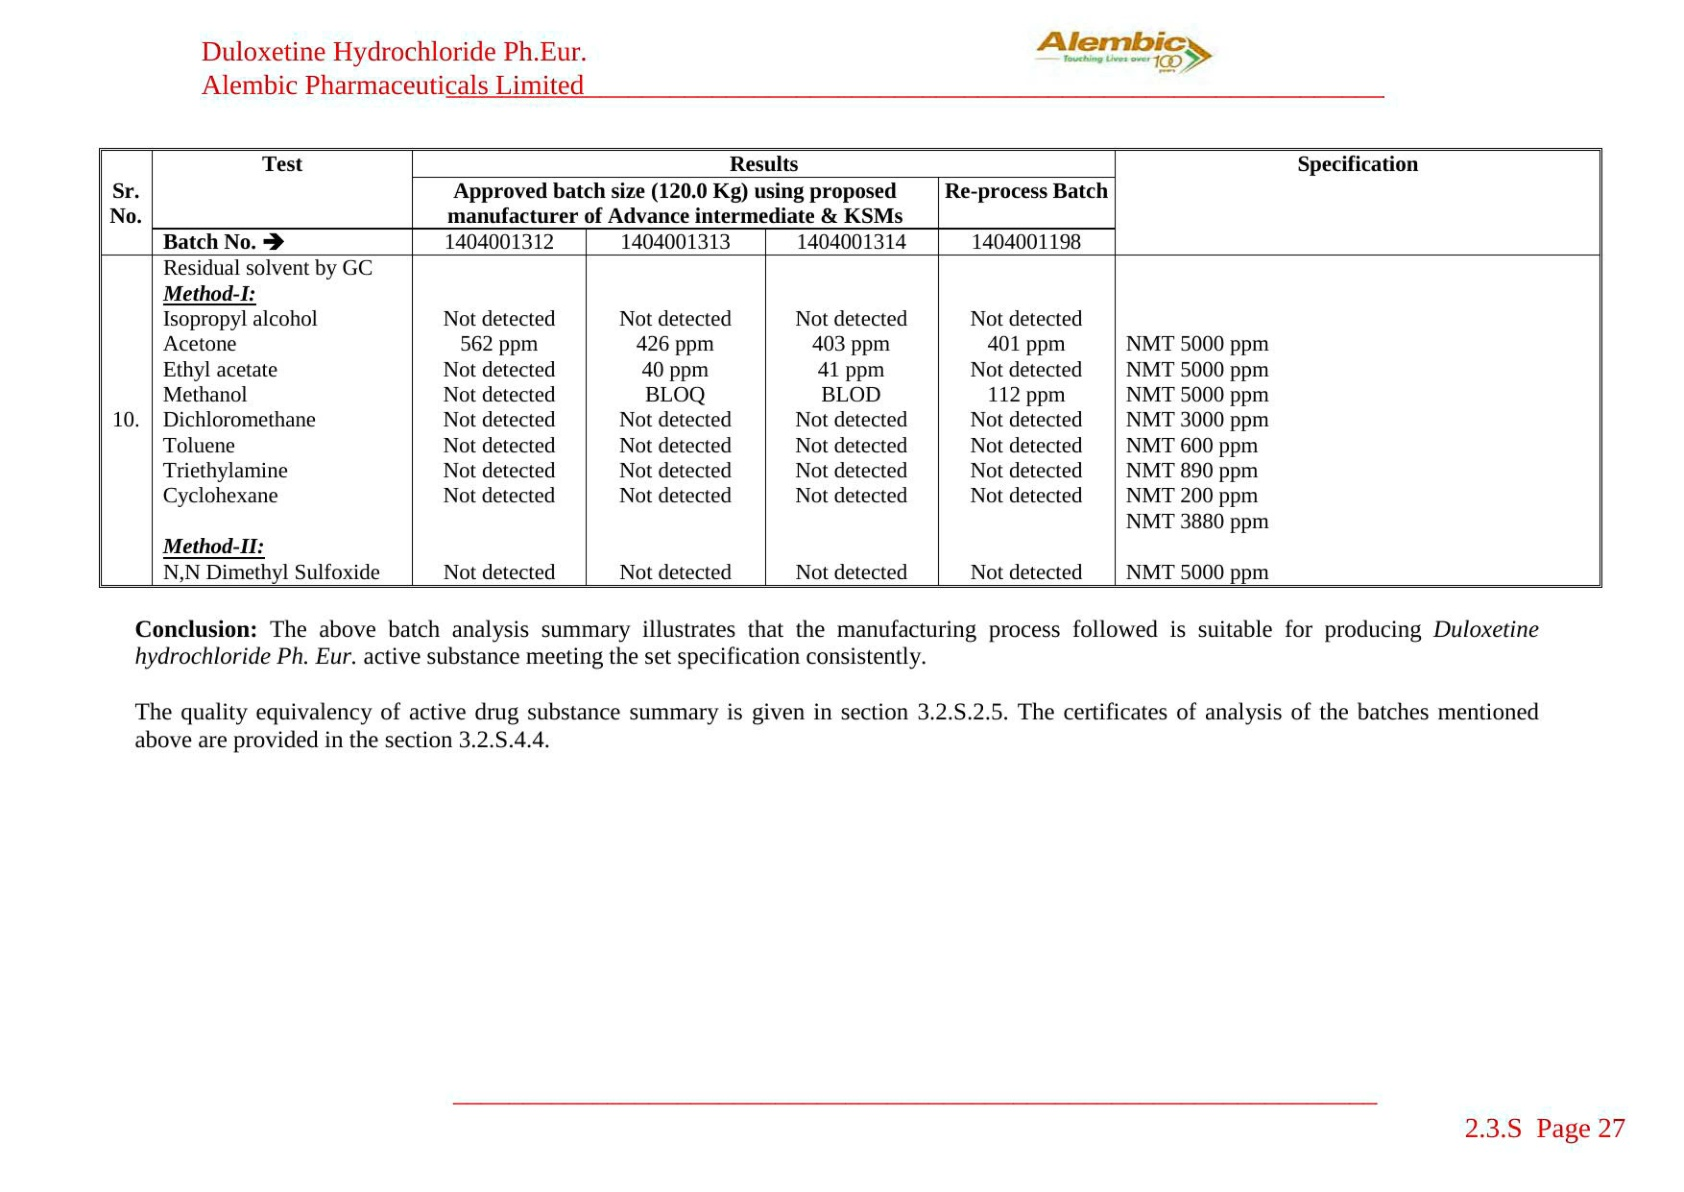merged_cells: (98, 148, 1601, 590)
